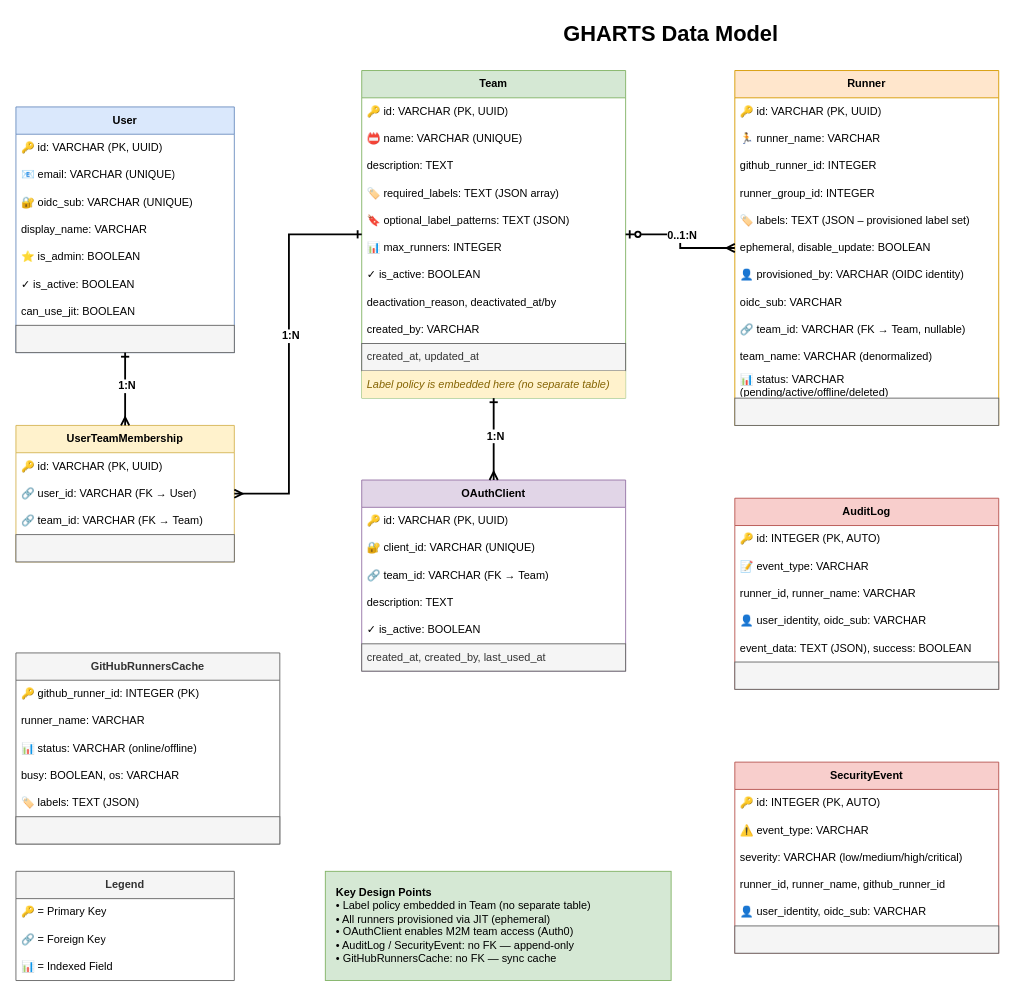
Image size: 1015x996. Some labels were removed from this diagram. The centre of each missing label's shape, as x and y in pixels:
cached_at, last_seen_at: DATETIME: point (147, 830)
created_at, updated_at, last_login_at: point (124, 338)
created_at, updated_at, registered_at, deleted_at: point (866, 411)
joined_at, added_by: point (124, 548)
violation_data: TEXT (JSON), action_taken: point (866, 939)
⏰ timestamp: DATETIME: point (866, 675)
